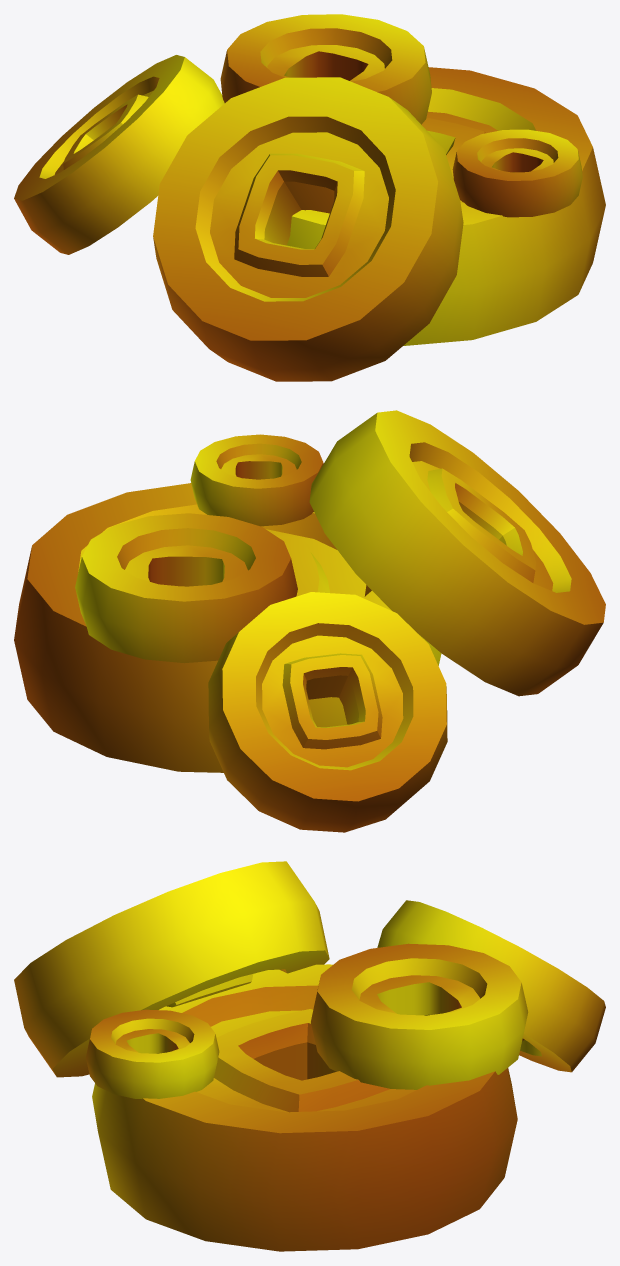
The model's file is Gold_Hole_Coin_05.glb.
3 renders of one model, top to bottom at view 1: azimuth 30°, elevation 25°; view 2: azimuth 150°, elevation 25°; view 3: azimuth 270°, elevation 25°, orthographic. The views are drawn at different scales.
Visible parts, largest first — view 1: Gold_Hole_Coin_05; view 2: Gold_Hole_Coin_05; view 3: Gold_Hole_Coin_05.
Boxes of the visible parts, x1=… form: Gold_Hole_Coin_05: x1=14, y1=14, x2=605, y2=381; Gold_Hole_Coin_05: x1=14, y1=410, x2=605, y2=832; Gold_Hole_Coin_05: x1=14, y1=861, x2=605, y2=1251.
Size of the model in its own units: 0.6198 by 0.3113 by 0.6696.
Materials: 1 (1 with a texture image).
